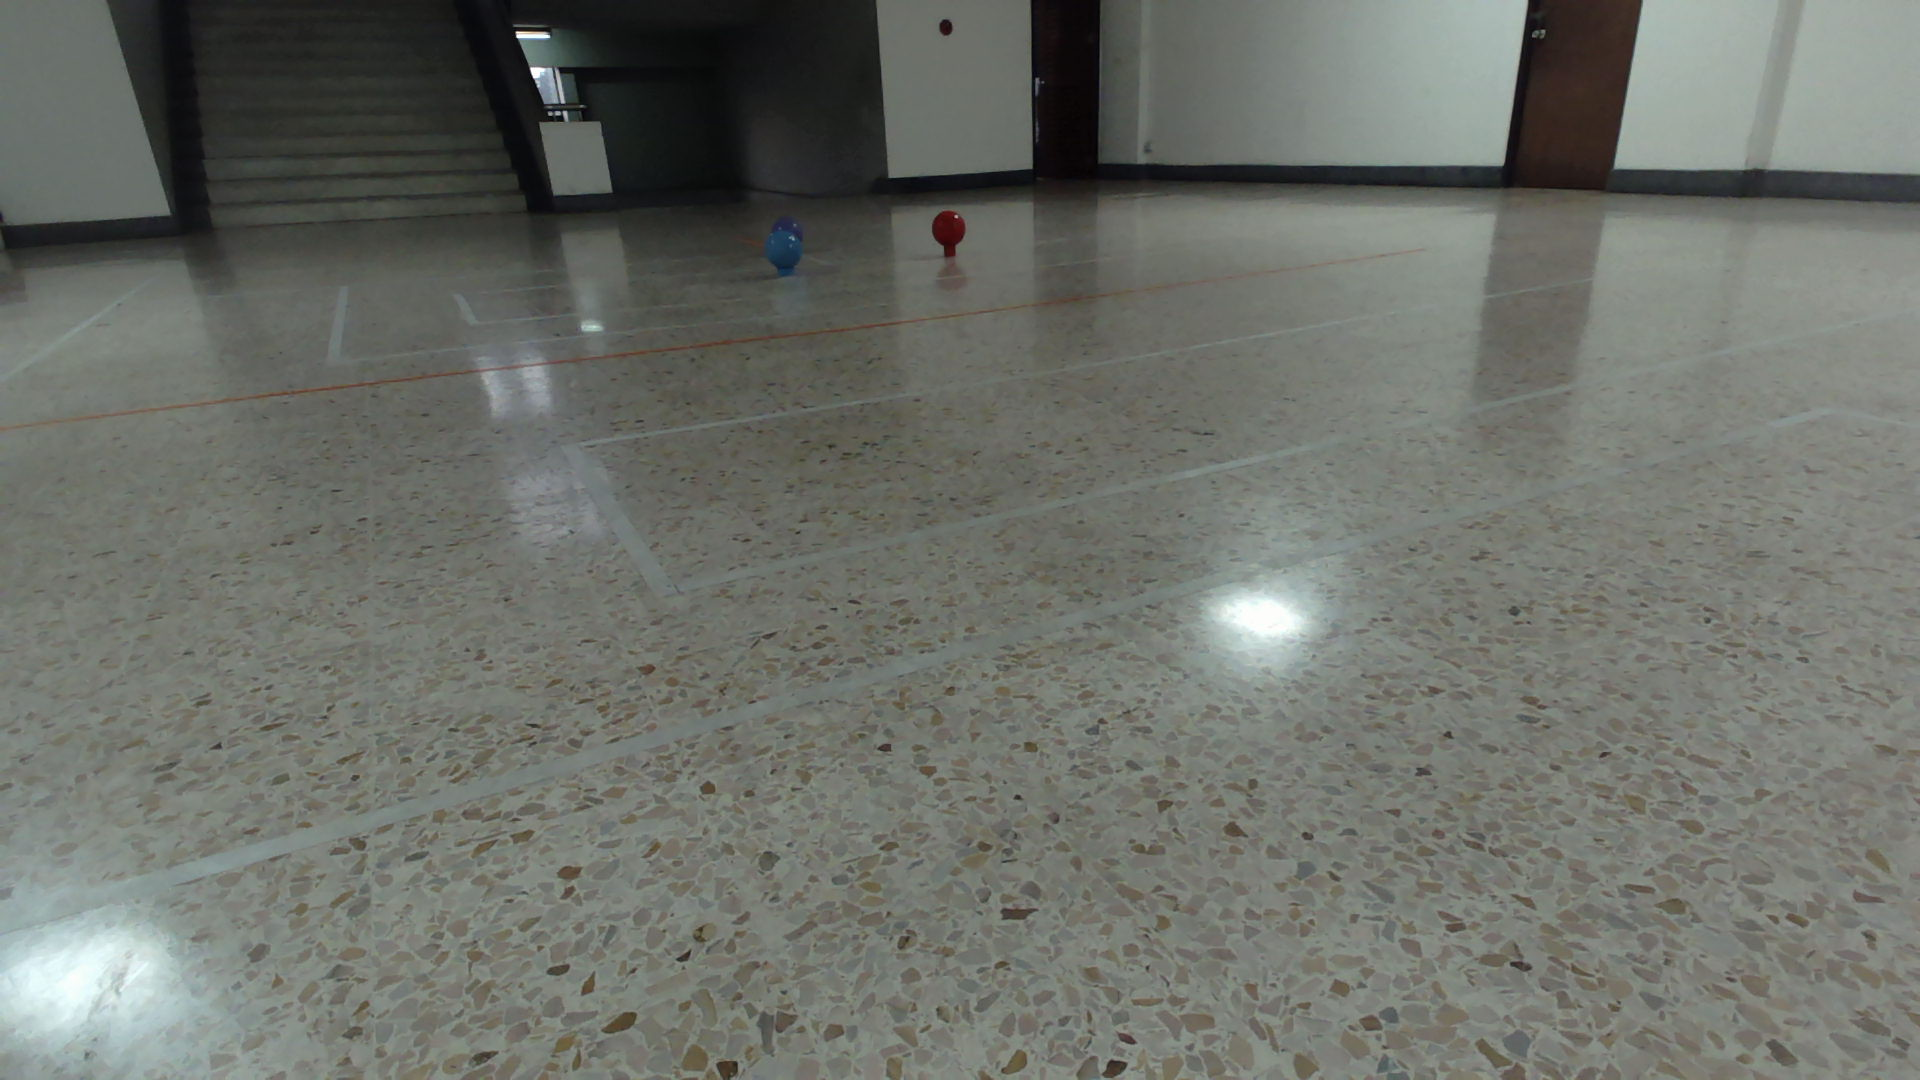Blue ball: (764, 229, 803, 272)
Purple ball: (771, 218, 804, 236)
Red ball: (930, 208, 967, 248)
